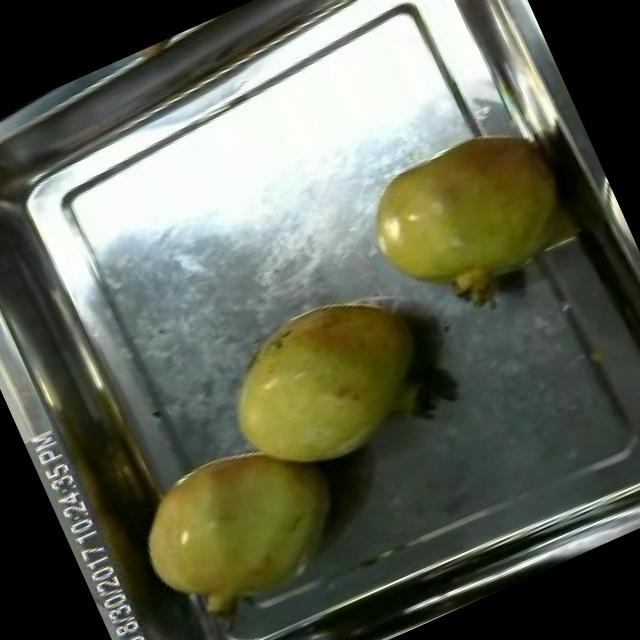fruit: (332, 96, 597, 338), (190, 263, 457, 503), (112, 409, 369, 640)
